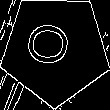O_E: (31, 27, 80, 72)
